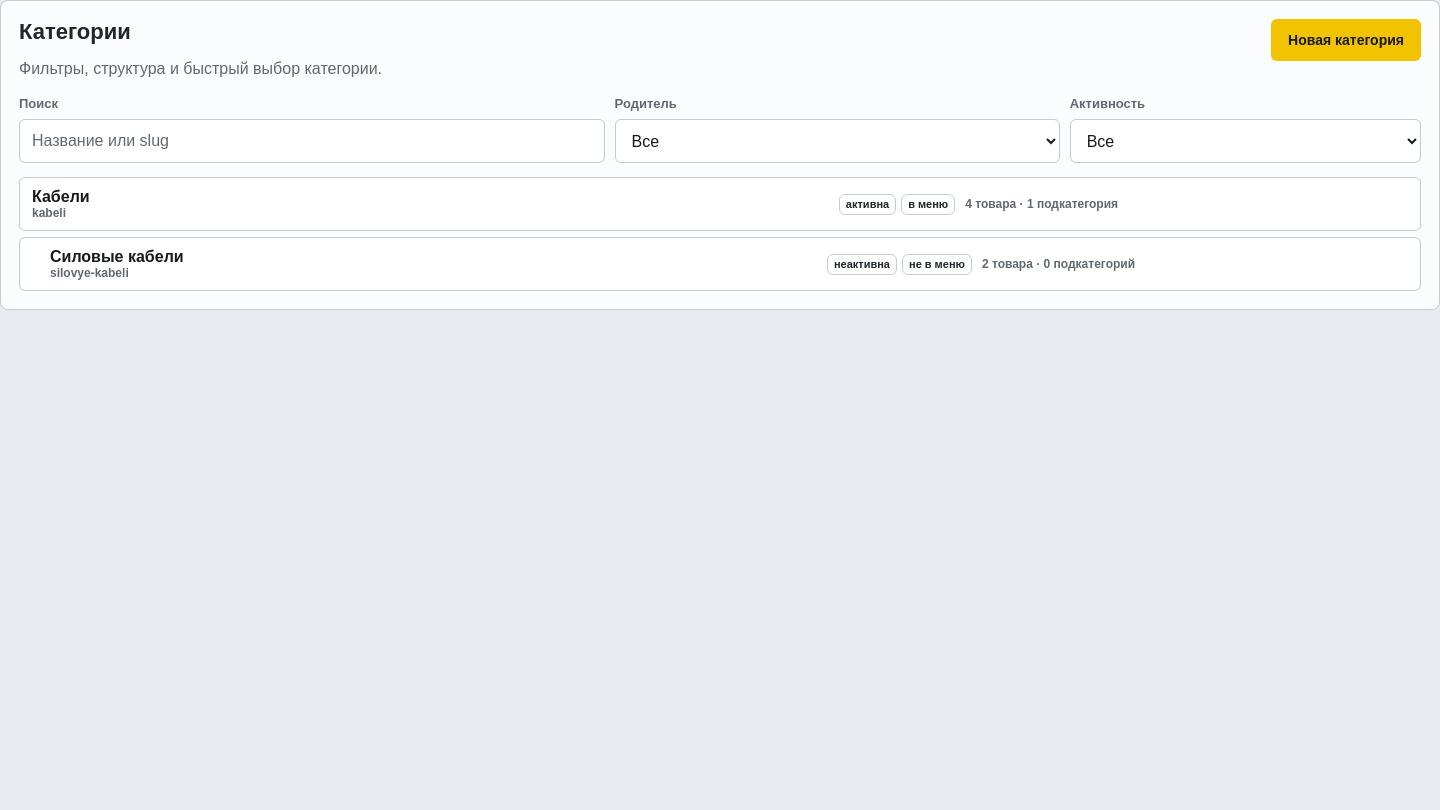
Test: AdminCategoryManager › закрывает диалог после удаления категории и обновляет списки
The width and height of the screenshot is (1440, 810).
Click the list item "Силовые кабели" at (117,257), box [19,237,1421,291]
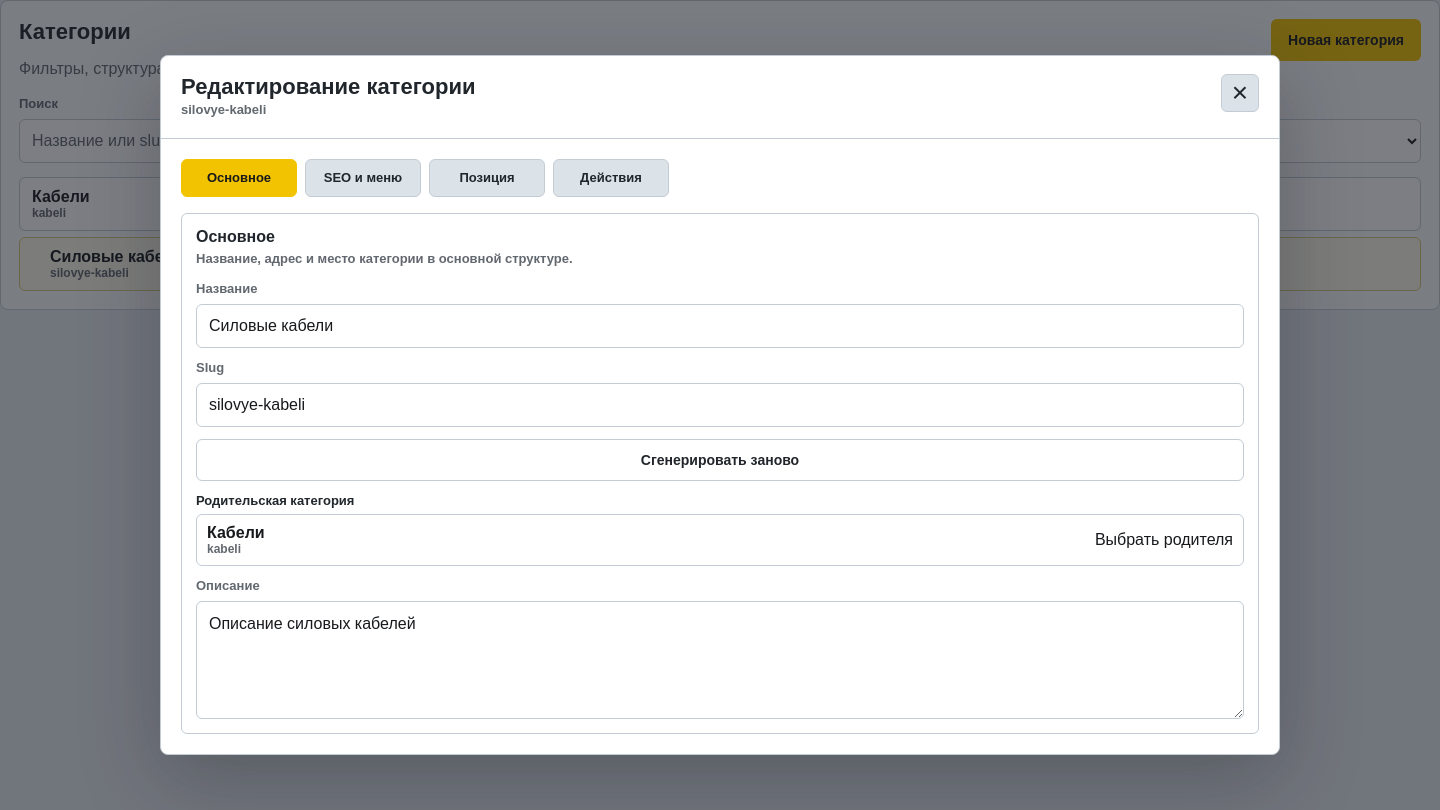
Click the tab "Действия" at (611,178), box [553,159,669,197]
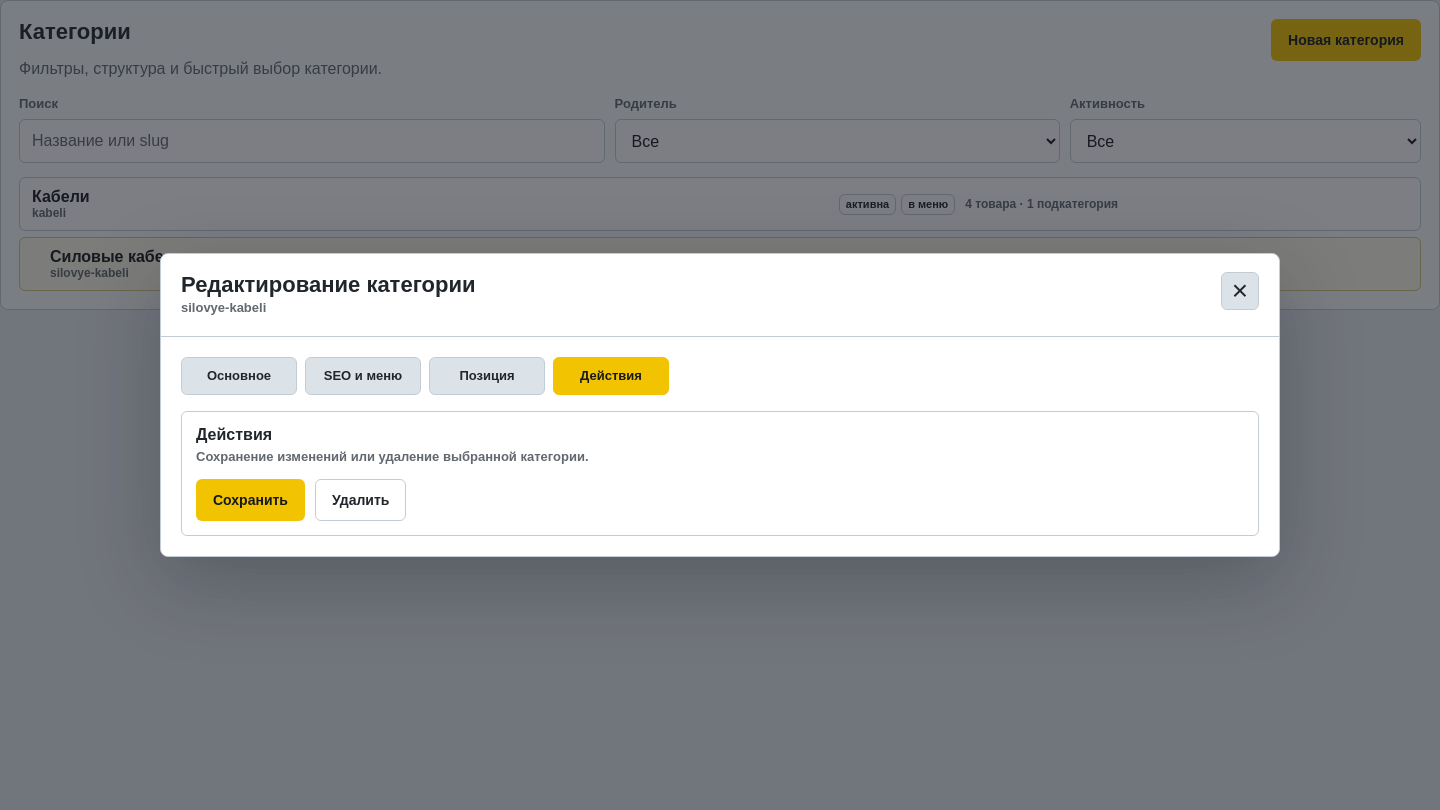
Click the button "Удалить" at (361,500), box [315,478,406,520]
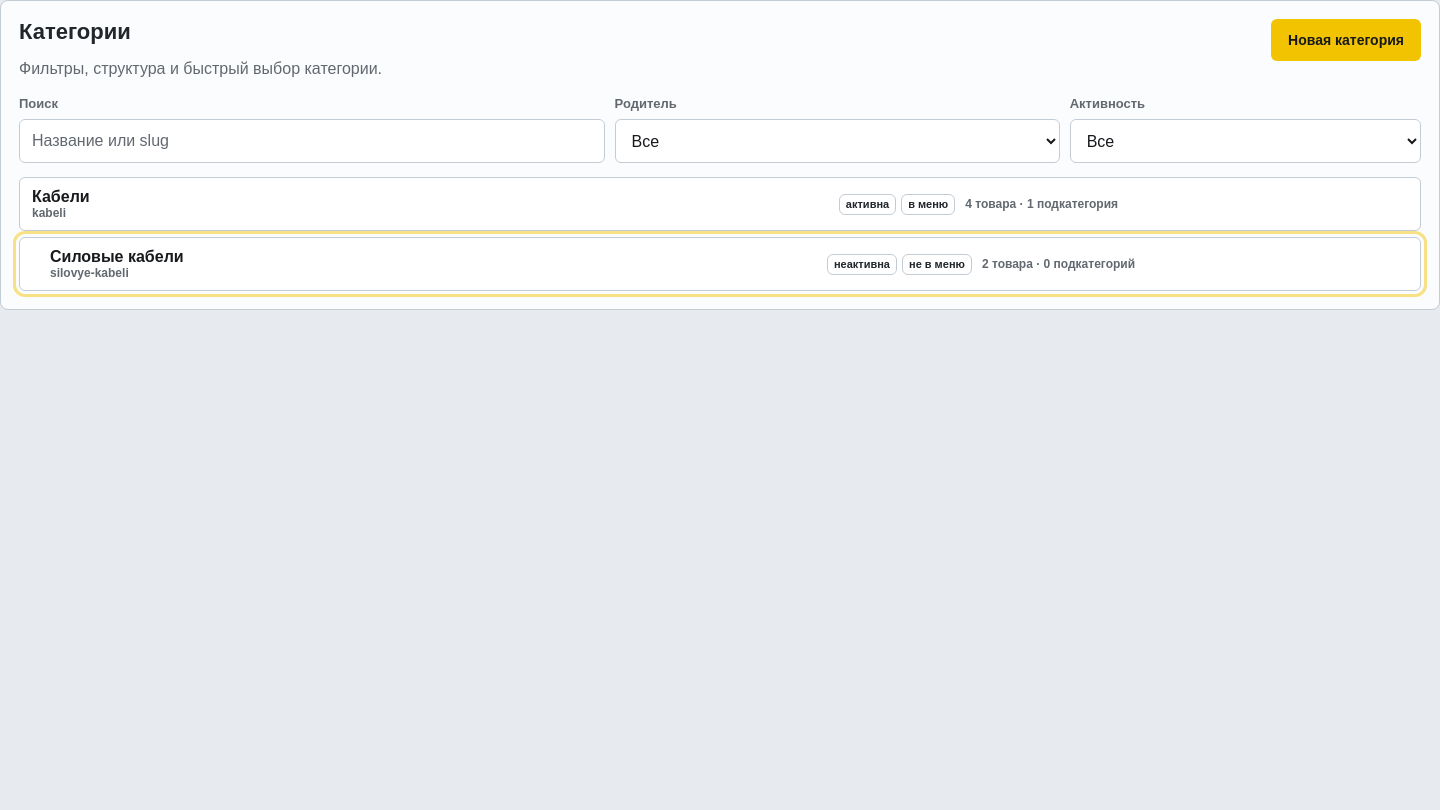
Expected: the dialog is gone
